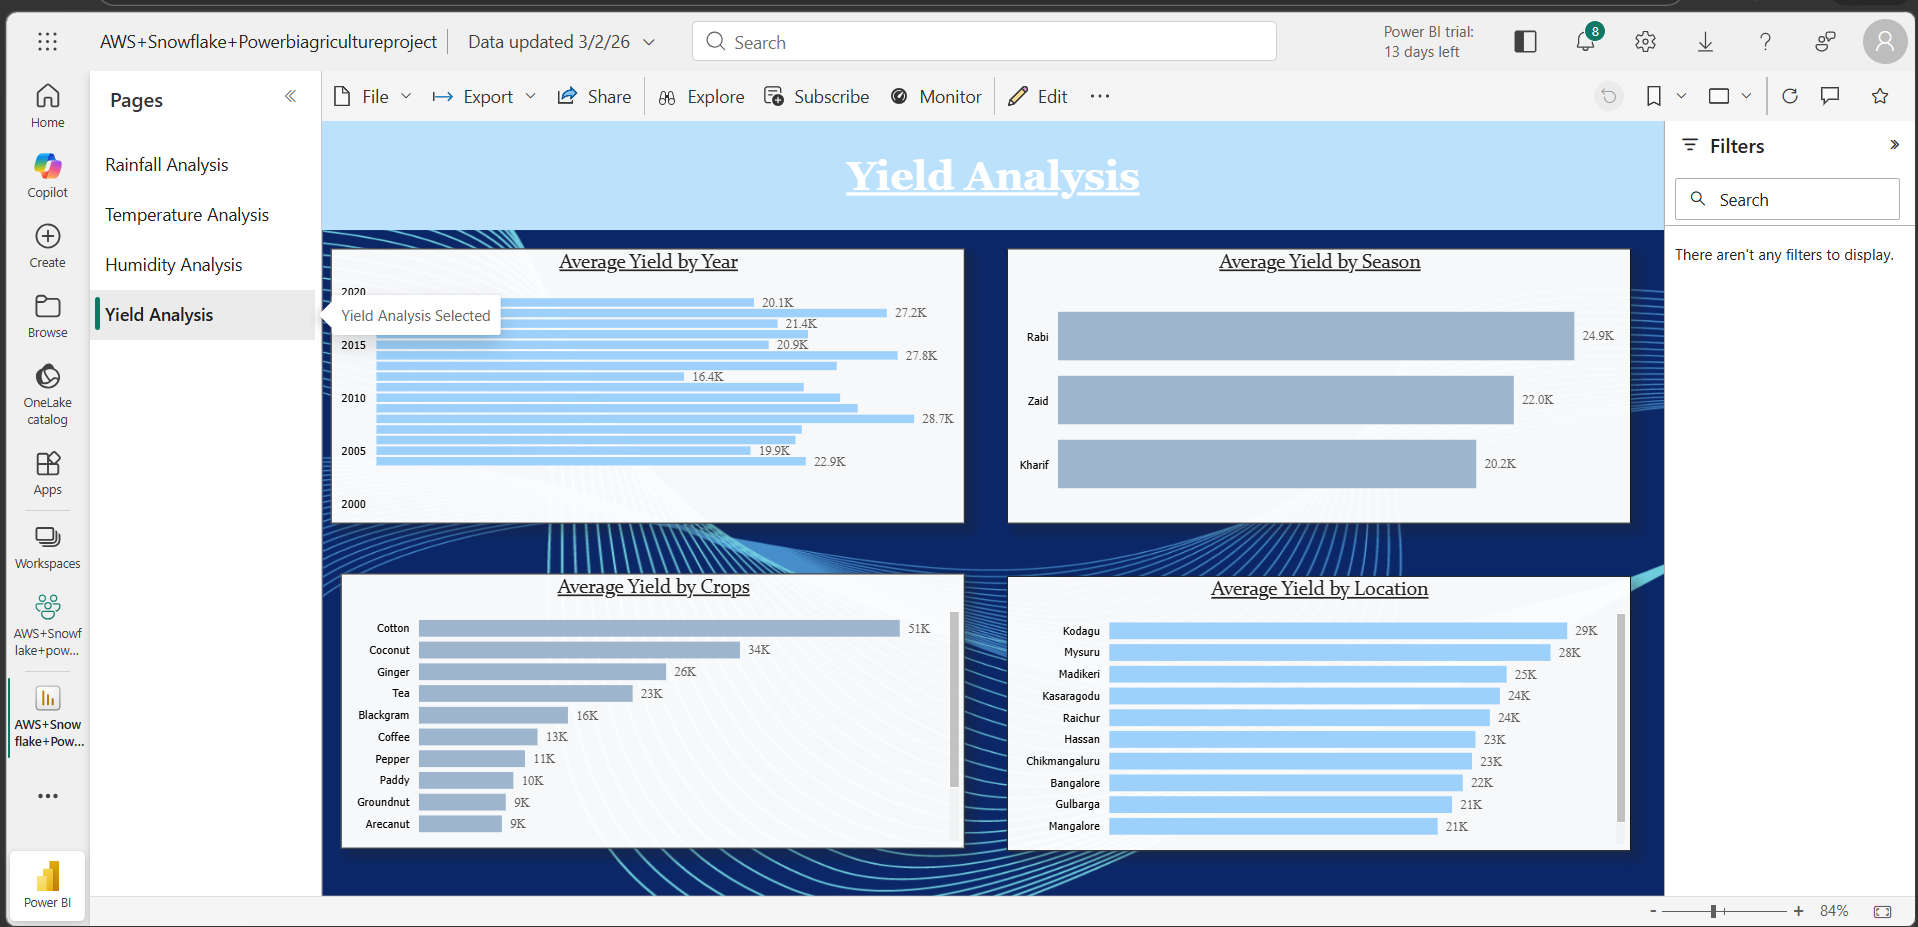

This screenshot's page, from the dashboard's own definition file:
{"tool":"powerbi","page":{"name":"Yield Analysis","canvas":[1280,720],"ordinal":3},"visuals":[{"type":"shape","box":[0,0,1280.3,104.3],"z":0},{"type":"barChart","title":"Average Yield by Year","fields":{"Category":["AGGRECULTURE.YEAR"],"Y":["Avg(AGGRECULTURE.YEILDS)"]},"box":[675.1,148.2,580.4,262.1],"z":1000},{"type":"barChart","title":"Average Yield by Season","fields":{"Category":["AGGRECULTURE.SEASON"],"Y":["Avg(AGGRECULTURE.YEILDS)"]},"box":[660,458.3,595.5,262.1],"z":2000},{"type":"barChart","title":"Average Yield by Crops","fields":{"Category":["AGGRECULTURE.CROPS"],"Y":["Avg(AGGRECULTURE.YEILDS)"]},"box":[43.9,458.3,595.5,262.1],"z":3000},{"type":"barChart","title":"Average Yield by Location","fields":{"Category":["AGGRECULTURE.LOCATION"],"Y":["Avg(AGGRECULTURE.YEILDS)"]},"box":[45.3,148.2,595.5,262.1],"z":4000}]}

Visuals, with their boxes on the page's 1280x720 design canvas (x1, y1, x2, y2). These are canvas units, not pixel positions in the 1918x927 screenshot, which may show the page scaled, cropped or inside an application window:
shape: <region>0, 0, 1280, 104</region>
"Average Yield by Year" barChart: <region>675, 148, 1256, 410</region>
"Average Yield by Season" barChart: <region>660, 458, 1256, 720</region>
"Average Yield by Crops" barChart: <region>44, 458, 639, 720</region>
"Average Yield by Location" barChart: <region>45, 148, 641, 410</region>
